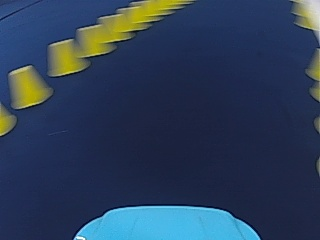cone: (8, 64, 51, 108), (46, 37, 86, 76), (75, 21, 114, 56)
